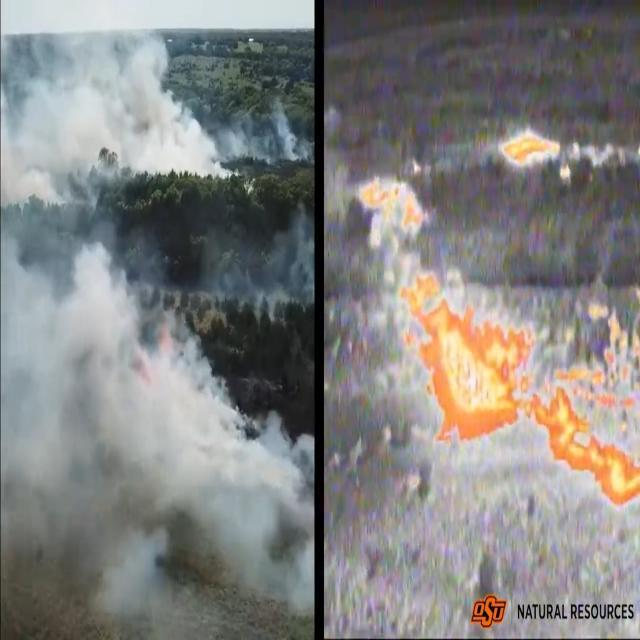fire: (359, 175, 535, 448), (535, 293, 640, 513), (501, 129, 562, 172)
